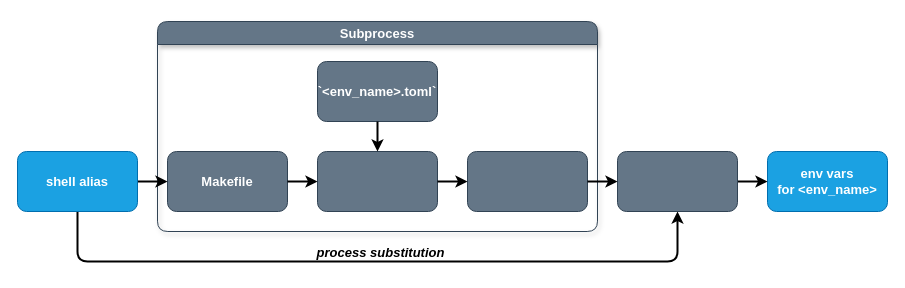
The diagram is 905 pixels wide and 288 high, and some of its shapes have lost their labels. The shapes that lost their labels are listed below. From the top down, each one's centre as x and y in pixels, then its label:
At point (377, 181): "`print_envs.py`".
At point (527, 181): "stdout: `export ENV=...`".
At point (677, 181): "`source <(...)`".
